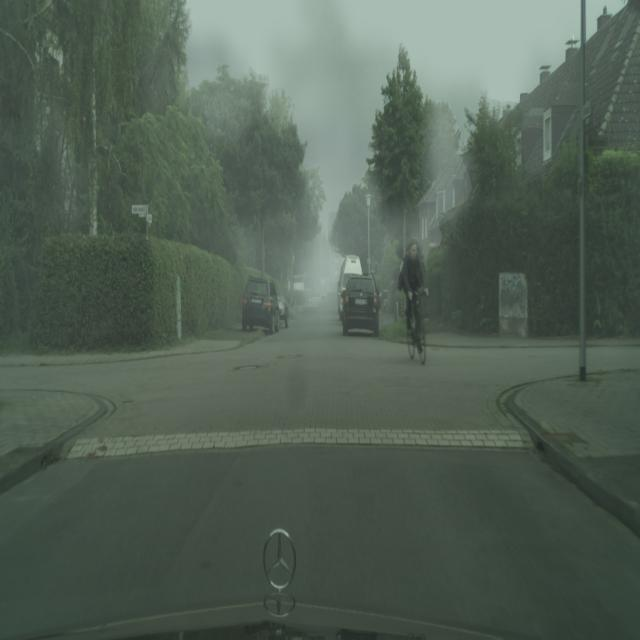car: (405, 288, 427, 364)
person: (398, 238, 428, 349)
train: (337, 254, 363, 317)
truck: (340, 275, 380, 336), (242, 276, 280, 334), (274, 289, 290, 329)
